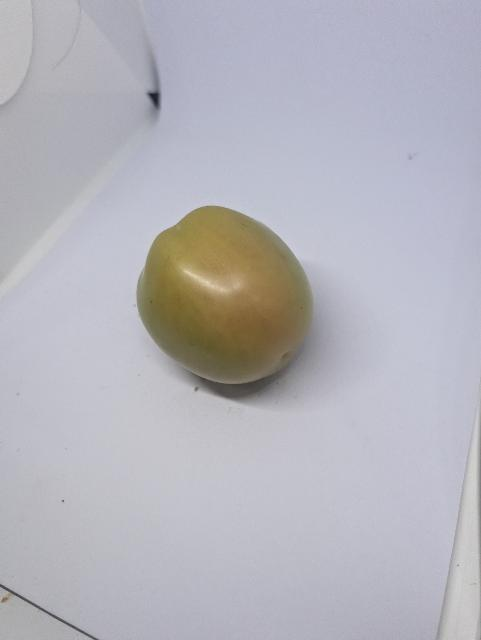breaker: (137, 206, 314, 384)
